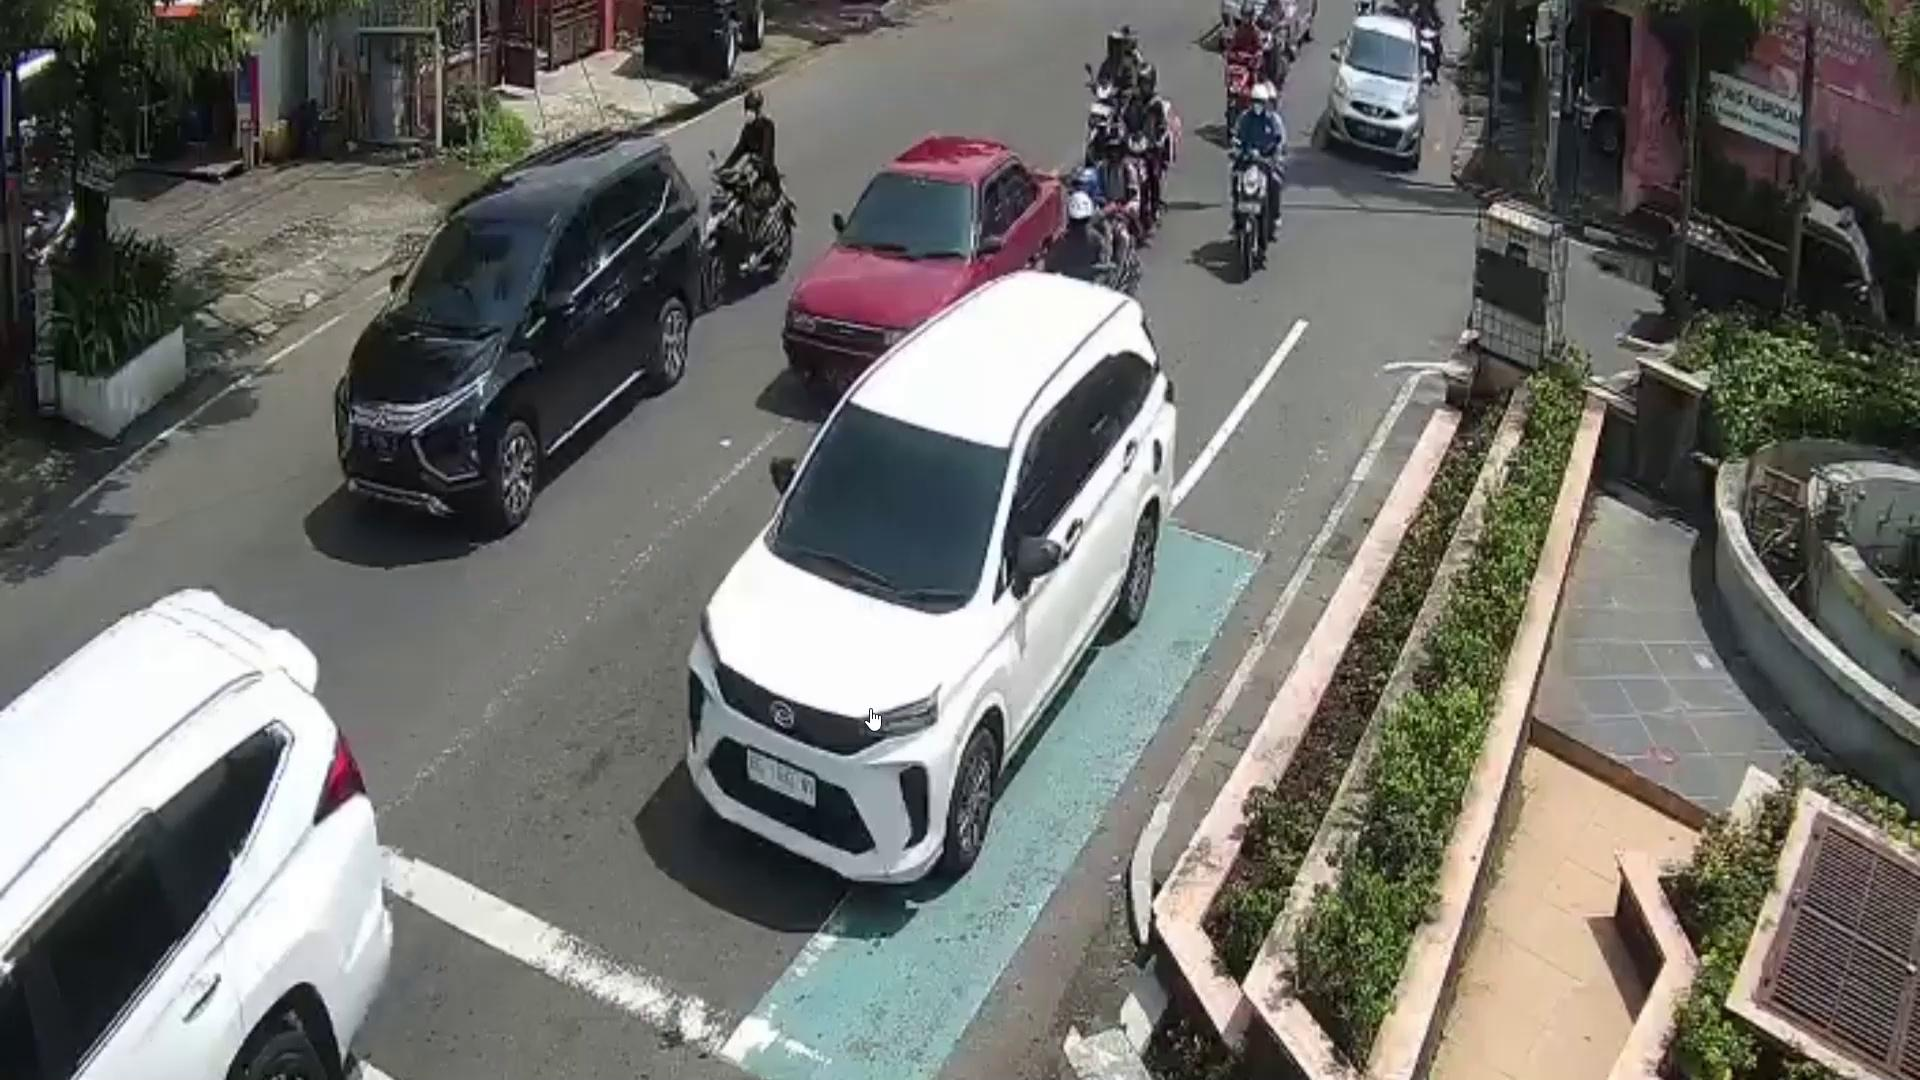car: (682, 273, 1175, 882), (0, 583, 386, 1080), (334, 127, 702, 535), (787, 140, 1073, 405), (1651, 183, 1887, 348), (1329, 12, 1427, 162)
motorbike: (703, 152, 793, 303), (1229, 148, 1274, 284)
